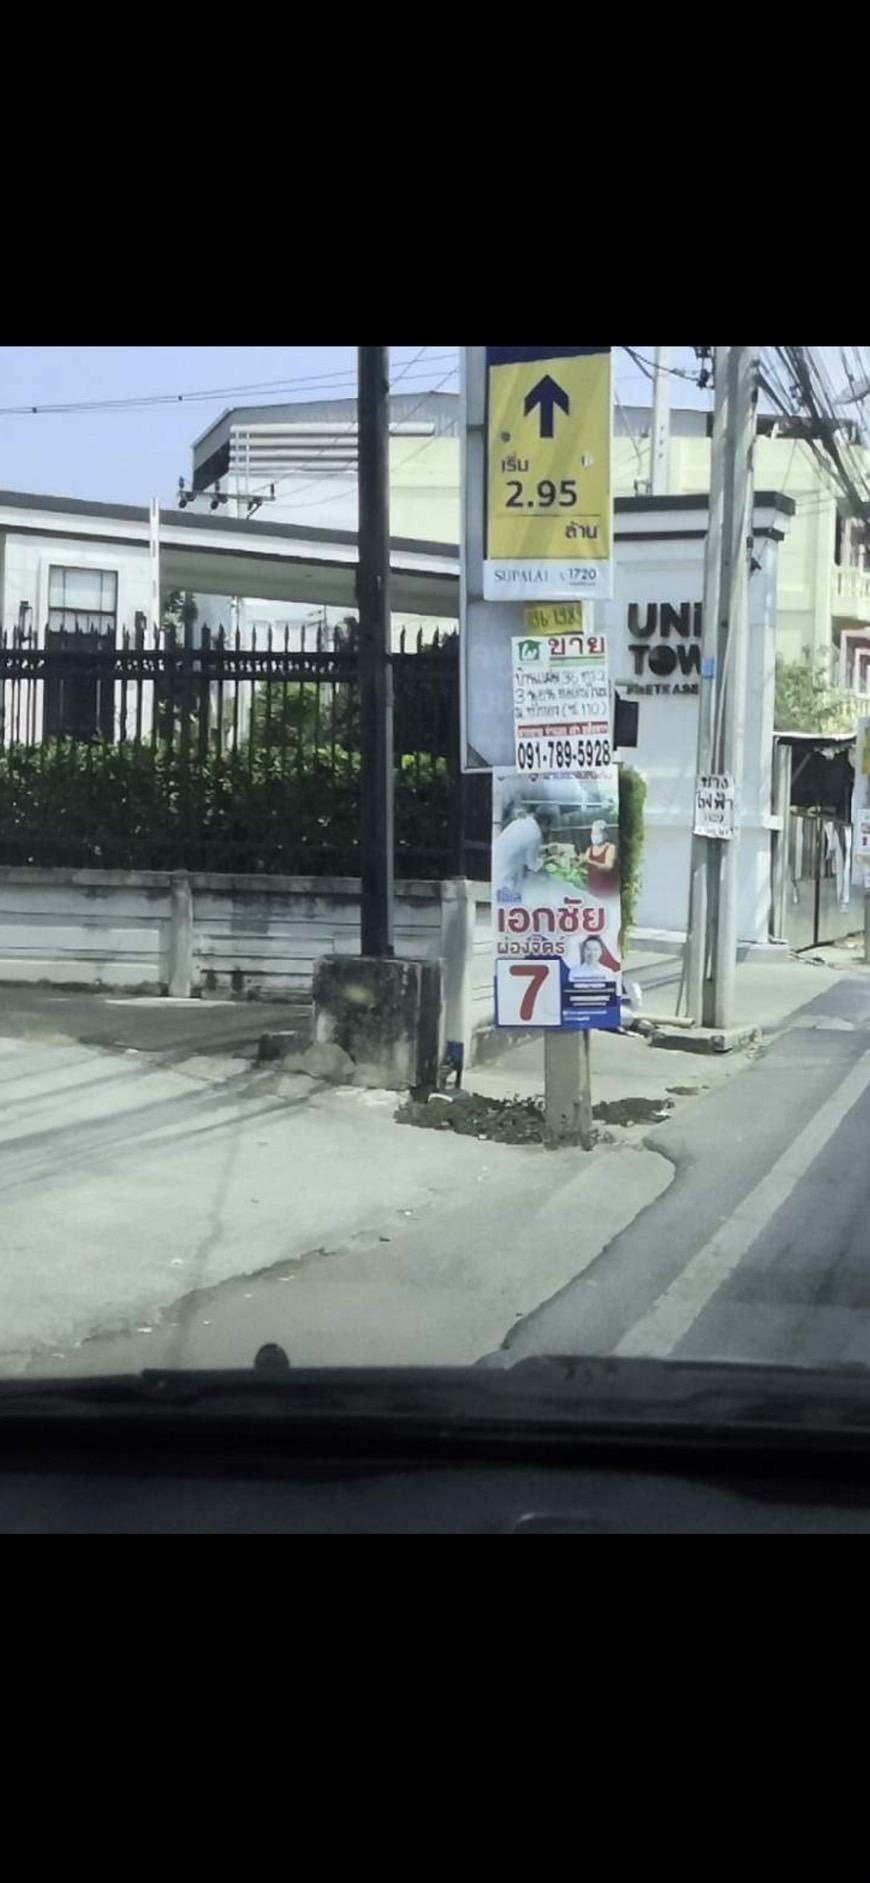Banner: (491, 761, 625, 1010)
